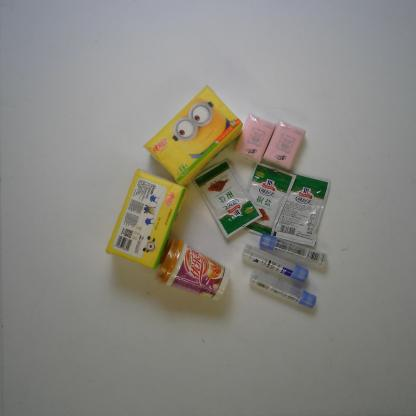Instant Drink: (151, 237, 231, 301)
Seasoner: (188, 158, 263, 240), (230, 162, 297, 242), (268, 168, 331, 248)
Stationery: (249, 267, 318, 309), (240, 244, 310, 283), (258, 233, 328, 268)
Tissue: (143, 84, 243, 188), (105, 168, 189, 271), (231, 112, 277, 162), (262, 119, 306, 170)
